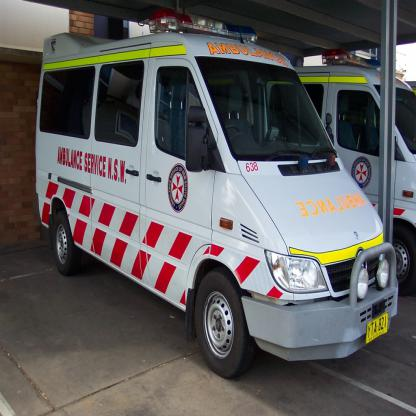Ambulance: (34, 29, 399, 381), (291, 60, 415, 302)
